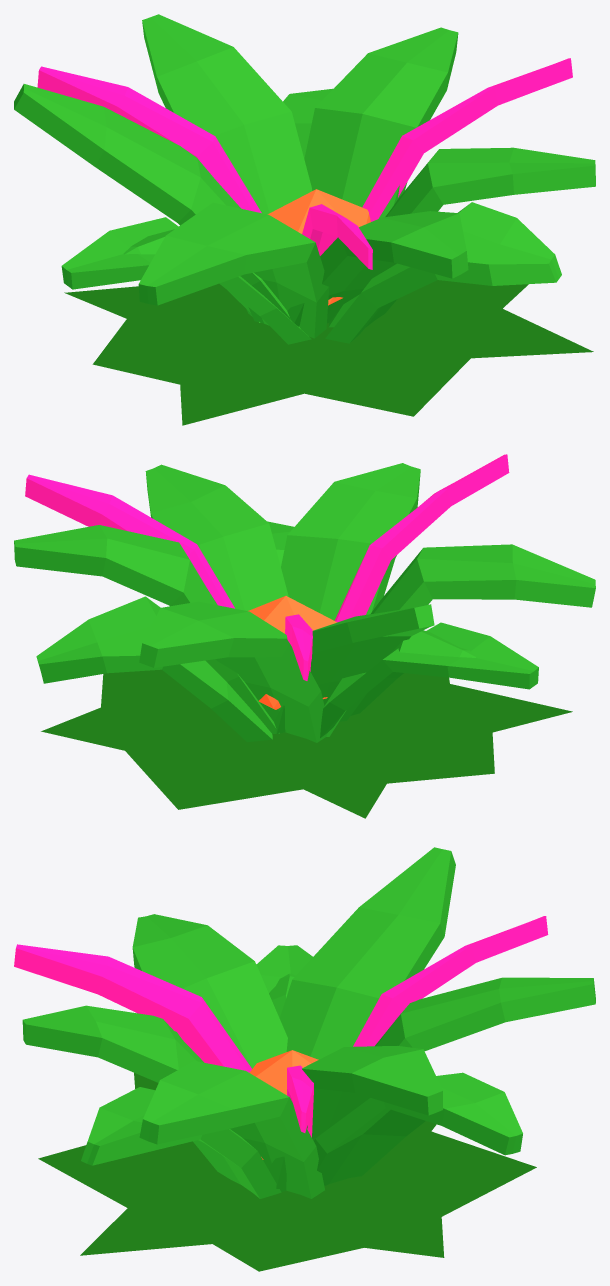
The model's file is LittlePlant.glb.
The picture shows the model from 3 angles, top to bottom: view 1: azimuth 30°, elevation 25°; view 2: azimuth 150°, elevation 25°; view 3: azimuth 270°, elevation 25°; orthographic projection. The views are drawn at different scales.
Visible parts, largest first — view 1: Plane.012; view 2: Plane.012; view 3: Plane.012.
Boxes of the visible parts, x1,y1,x2,y2 form: Plane.012: (14,14,595,425); Plane.012: (14,454,595,818); Plane.012: (14,847,595,1271).
Size of the model in its own units: 0.9914 by 0.4602 by 0.9862.
